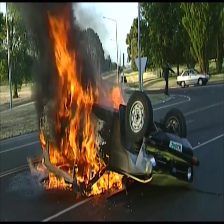fire_h: (47, 4, 107, 185), (84, 170, 123, 197), (41, 172, 72, 191)
fire_l: (105, 85, 124, 108), (35, 158, 47, 172), (39, 127, 46, 144)
